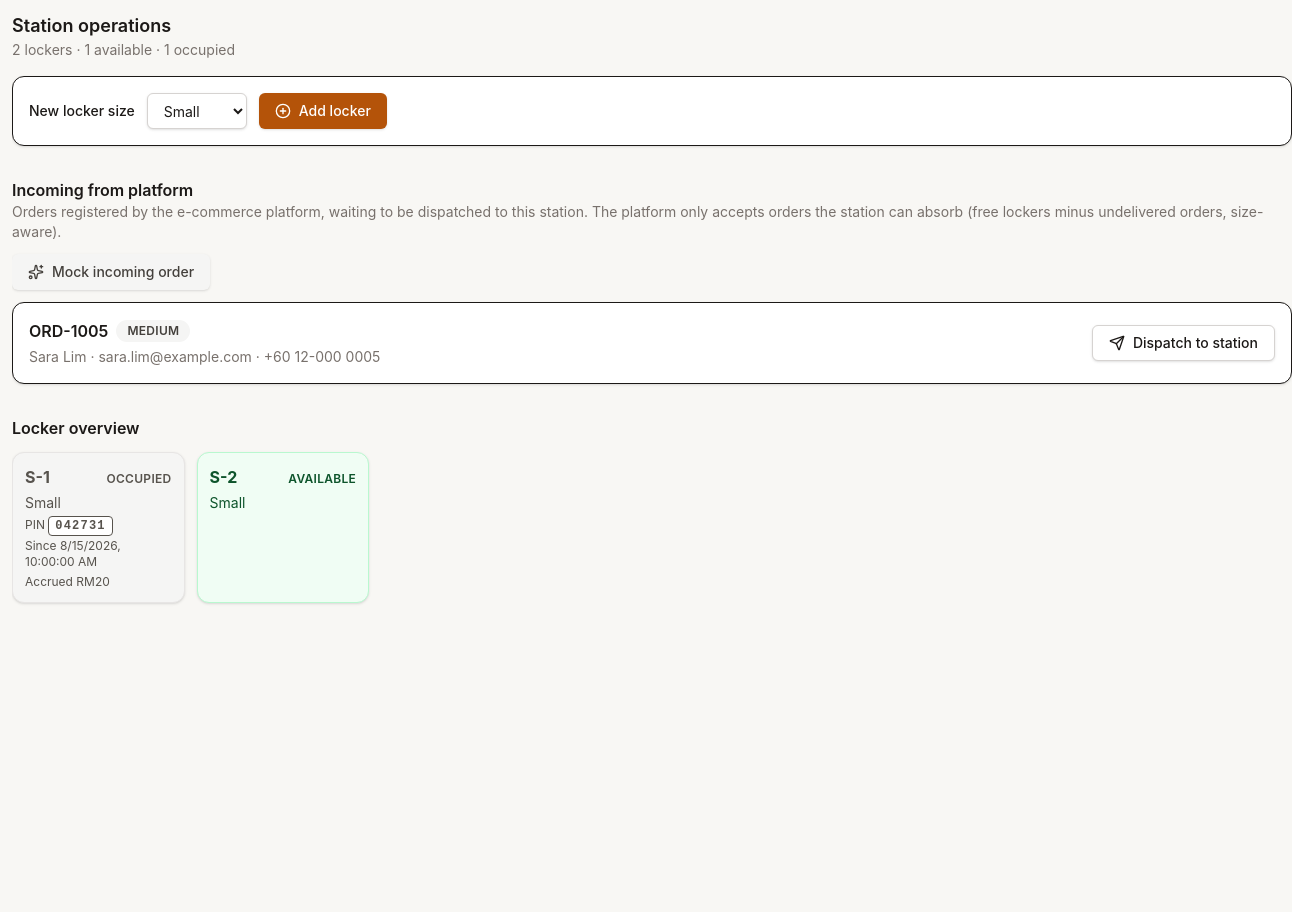
OperationsView › mocks a new incoming order from the platform
The image size is (1292, 912).
Click the button "Mock incoming order" at (111, 272), box [12,254,210,290]
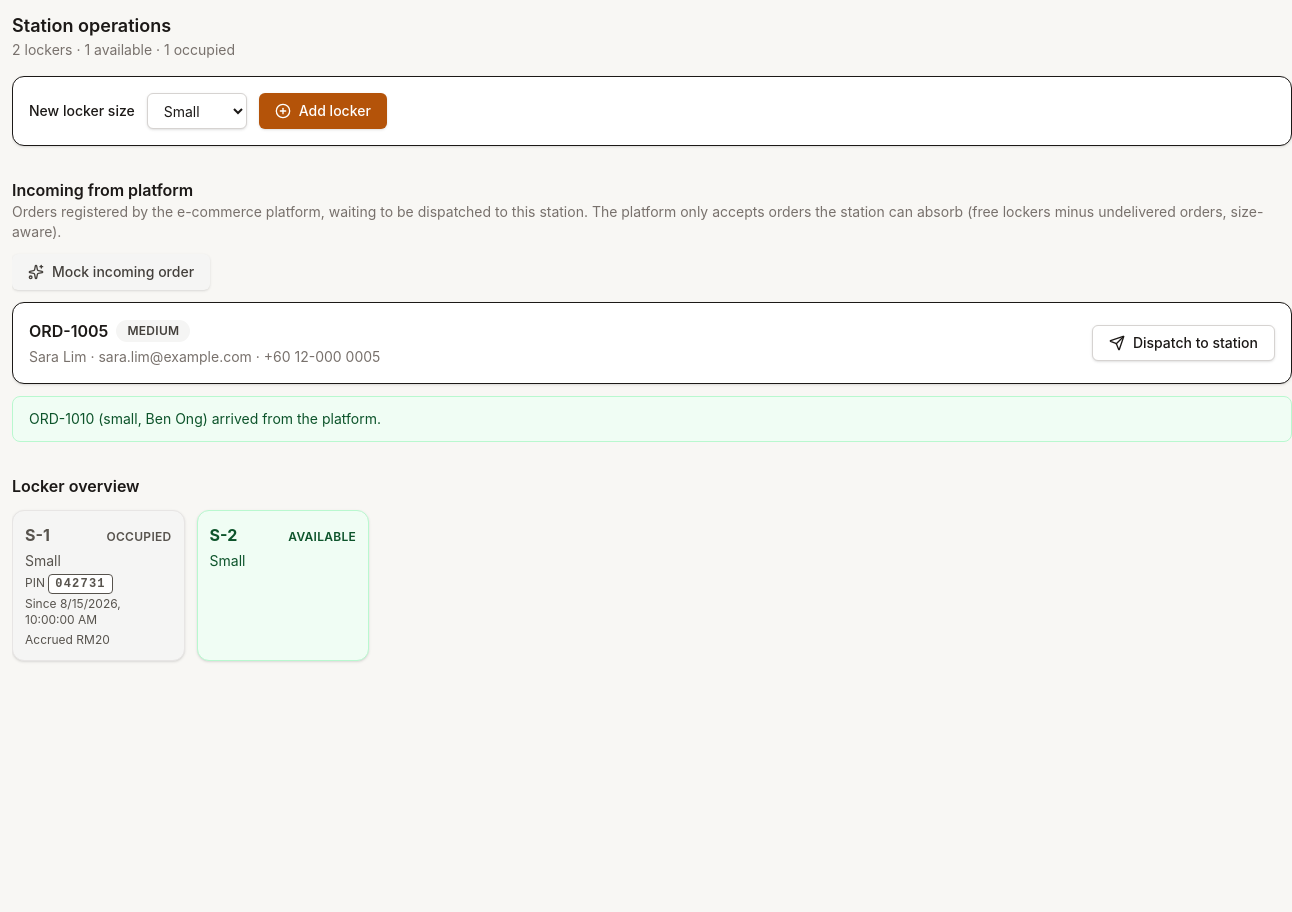
Now the text "ORD-1010 (small, Ben Ong) arrived from the platform." is shown, box [12,396,1291,442]
